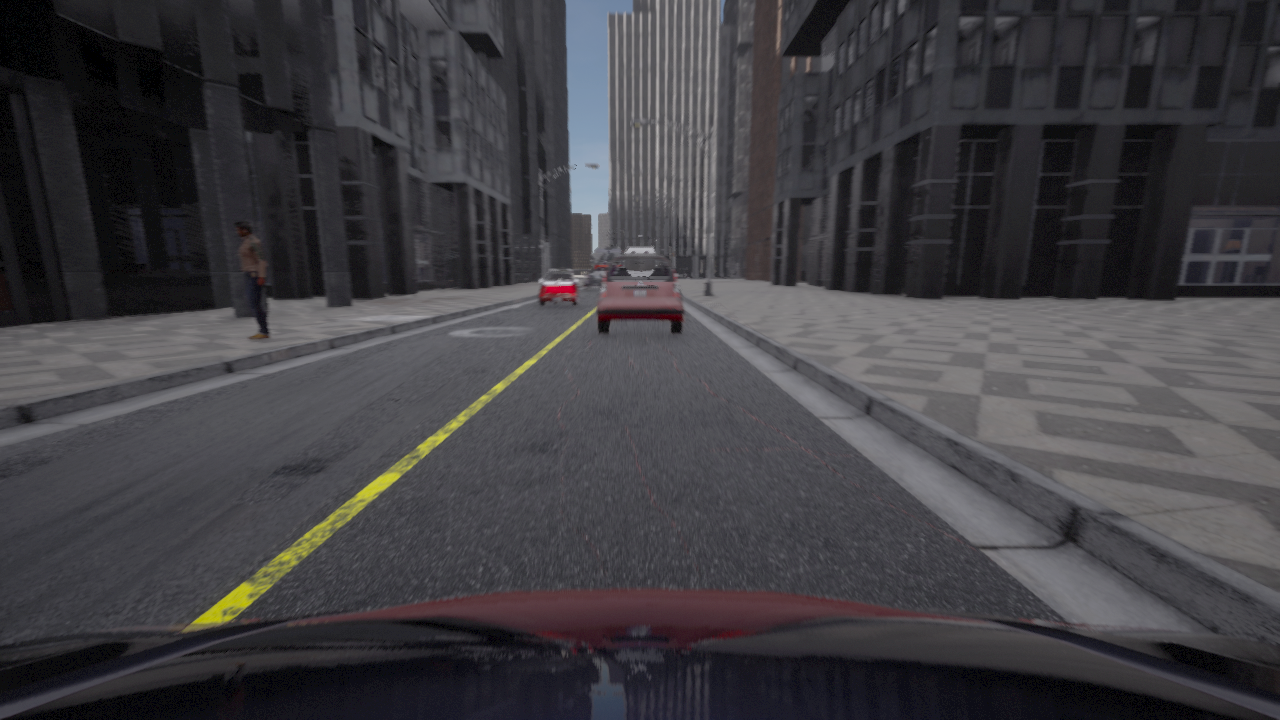cyclist: (0, 588, 1279, 719), (597, 254, 683, 333), (539, 269, 578, 305), (591, 246, 623, 270), (583, 270, 605, 290), (624, 247, 655, 253)
pedestrian: (233, 220, 270, 339)
